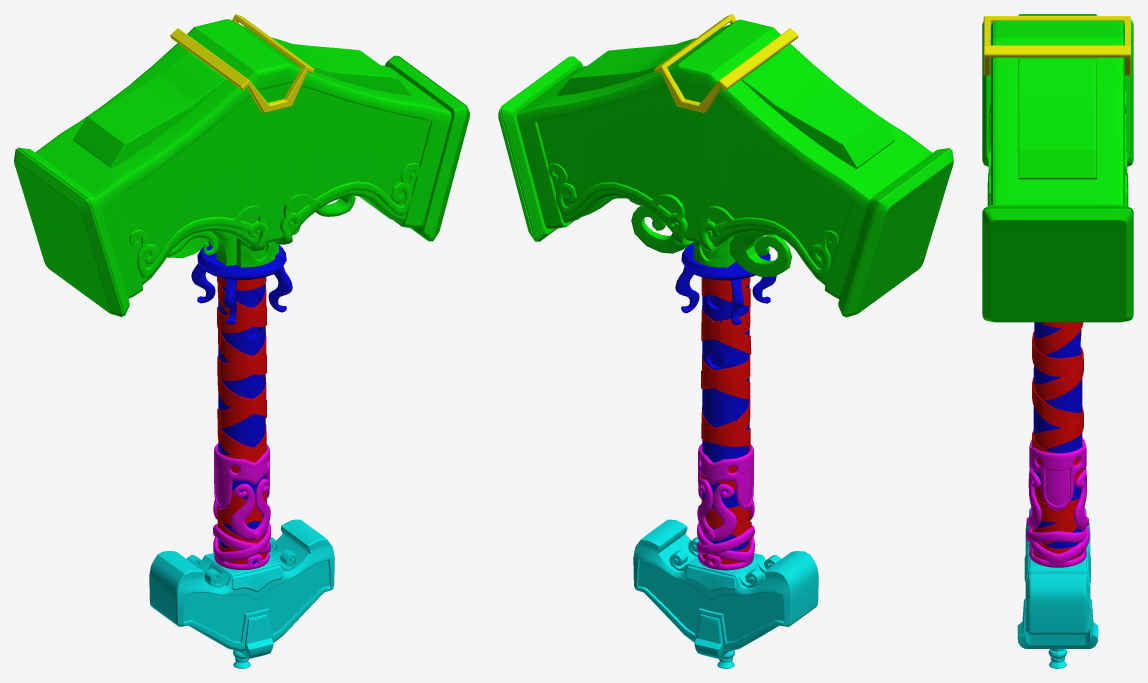
Rendered from MjolnirExample_FBX.fbx.
3 views of the same model, side by side, from view 1: azimuth 30°, elevation 25°; view 2: azimuth 150°, elevation 25°; view 3: azimuth 270°, elevation 25° (orthographic). The views are drawn at different scales.
Visible parts, largest first — view 1: HammerHead_Geo, Butt_Geo, Handle_Geo, Wraps_Geo, BaseHandleMetal_Geo, HeadBrace_Geo; view 2: HammerHead_Geo, Butt_Geo, Handle_Geo, Wraps_Geo, BaseHandleMetal_Geo, HeadBrace_Geo; view 3: HammerHead_Geo, Butt_Geo, Wraps_Geo, BaseHandleMetal_Geo, HeadBrace_Geo, Handle_Geo.
Part boxes in pixels (box(x1,y1,x2,y2)): HammerHead_Geo: box(14, 19, 469, 316); Butt_Geo: box(149, 519, 334, 668); Handle_Geo: box(191, 241, 292, 564); Wraps_Geo: box(216, 276, 266, 564); BaseHandleMetal_Geo: box(213, 443, 270, 569); HeadBrace_Geo: box(170, 14, 314, 112); HammerHead_Geo: box(498, 19, 953, 317); Butt_Geo: box(633, 519, 818, 668); Handle_Geo: box(675, 242, 776, 551); Wraps_Geo: box(701, 277, 751, 564); BaseHandleMetal_Geo: box(697, 443, 754, 570); HeadBrace_Geo: box(654, 14, 798, 112); HammerHead_Geo: box(982, 14, 1133, 322); Butt_Geo: box(1017, 508, 1098, 668); Wraps_Geo: box(1032, 322, 1083, 560); BaseHandleMetal_Geo: box(1026, 438, 1089, 567); HeadBrace_Geo: box(983, 16, 1130, 75); Handle_Geo: box(1033, 322, 1082, 548).
Bounding box in the file's own units: 362 × 548 × 118.
